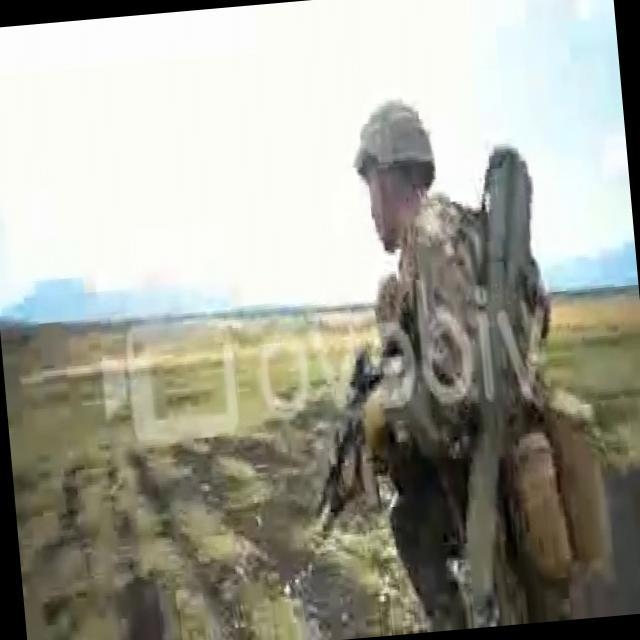rocket: (424, 148, 579, 628)
